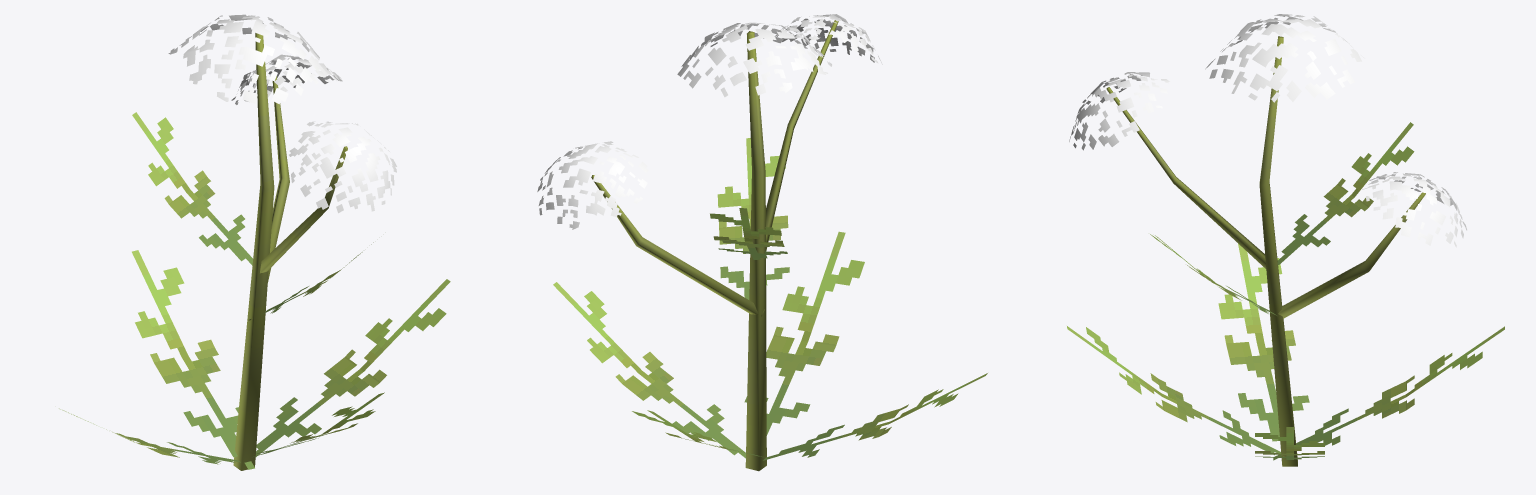
File: Pickable_SeedCarrot.fbx
The picture shows the model from 3 angles, left to right: view 1: azimuth 30°, elevation 25°; view 2: azimuth 150°, elevation 25°; view 3: azimuth 270°, elevation 25°; orthographic projection.
Visible parts, largest first — view 1: flower; view 2: flower; view 3: flower.
Boxes of the visible parts, x1=… form: flower: x1=59, y1=14, x2=450, y2=470; flower: x1=537, y1=14, x2=987, y2=471; flower: x1=1067, y1=14, x2=1504, y2=466.
Size of the model in its own units: 1 by 0.947 by 0.9214.
Materials: 1 (1 with a texture image).
